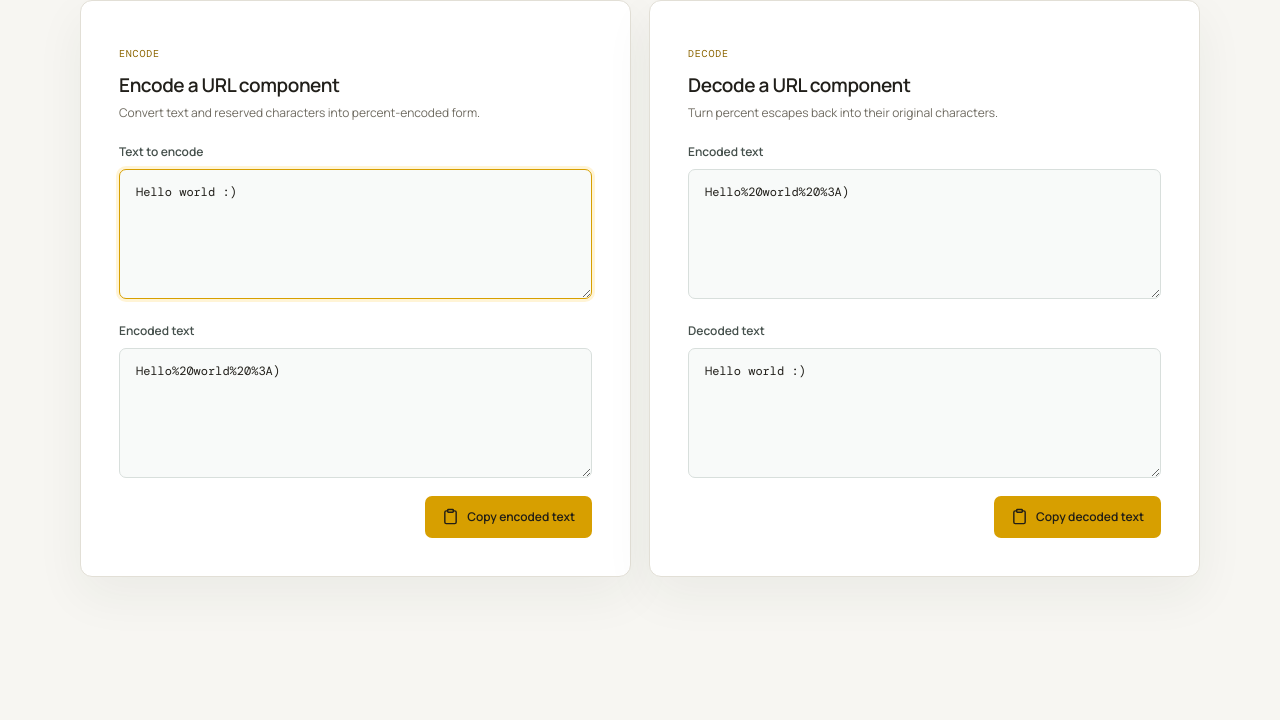
UrlEncoderTool › shows malformed decoding feedback and disables copying
Replace the text in the text box labelled "Encoded text" below "Decode a URL component" with "%ZZ" at coordinates (924, 234), box [688,168,1161,298]
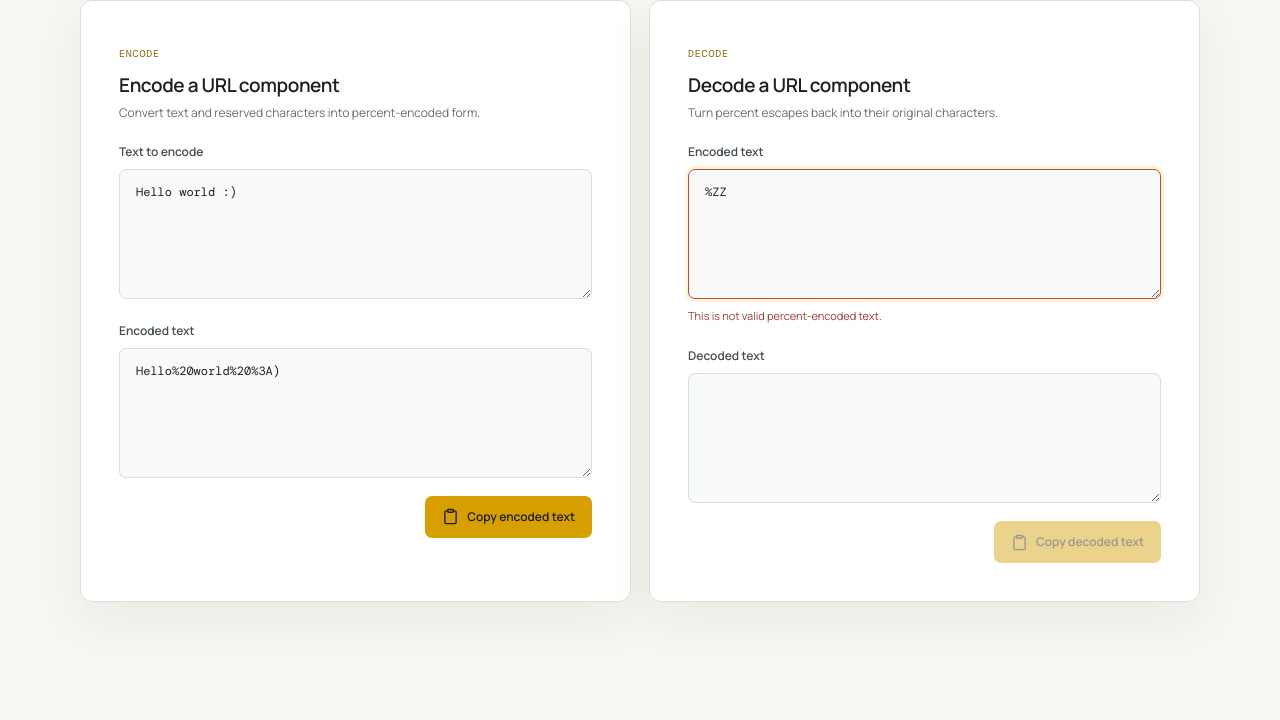
Now the button "Copy decoded text" is disabled, box [994,521,1161,563]
Now the text "This is not valid percent-encoded text." is shown, box [688,308,882,322]
